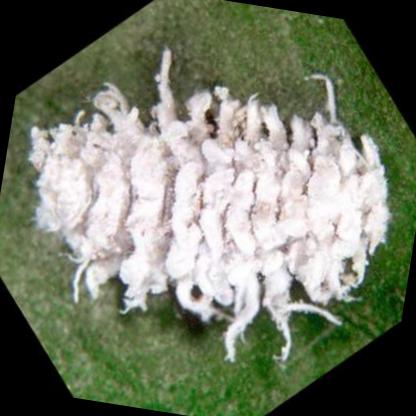mealy bug: (30, 52, 389, 361)
